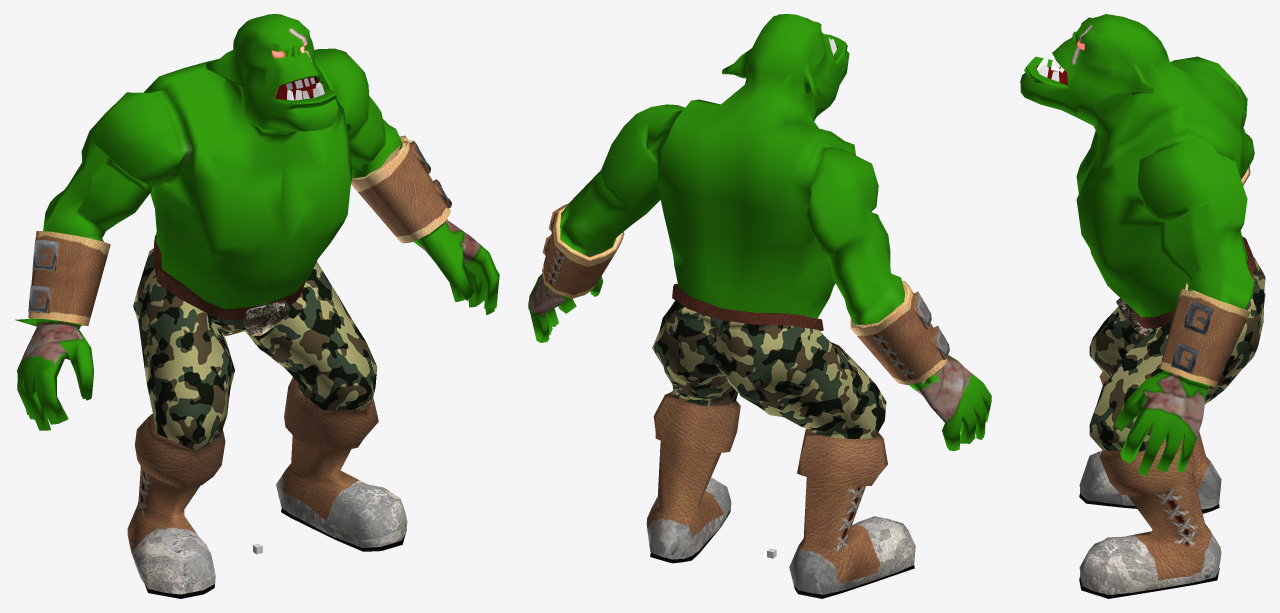
Rendered from orc2.glb.
3 views of the same model, side by side, from view 1: azimuth 30°, elevation 25°; view 2: azimuth 150°, elevation 25°; view 3: azimuth 270°, elevation 25° (orthographic). The views are drawn at different scales.
Visible parts, largest first — view 1: Object_2; view 2: Object_2; view 3: Object_2.
Boxes of the visible parts, x1,y1,x2,y2 form: Object_2: (15, 14, 499, 598); Object_2: (528, 14, 991, 598); Object_2: (1020, 14, 1265, 598).
Bounding box in the file's own units: 145 × 163 × 68.92.
Materials: 2 (1 with a texture image).
